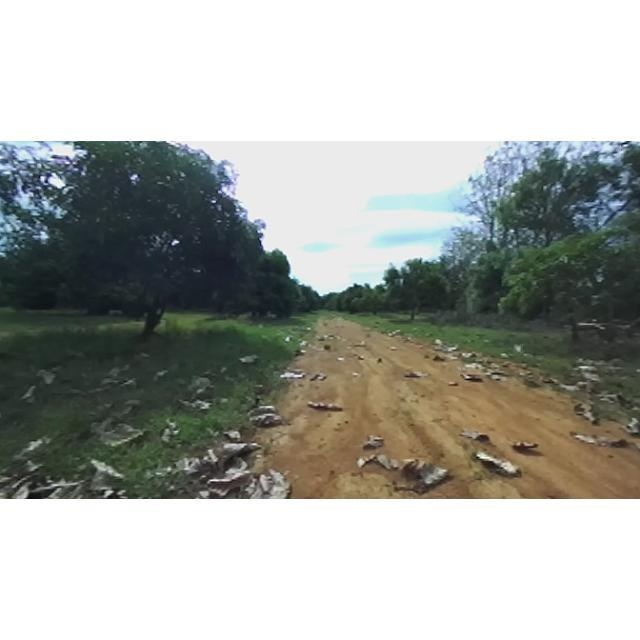direk: (12, 141, 272, 379), (496, 224, 640, 368), (499, 146, 606, 332), (208, 240, 310, 322), (375, 258, 453, 326)
